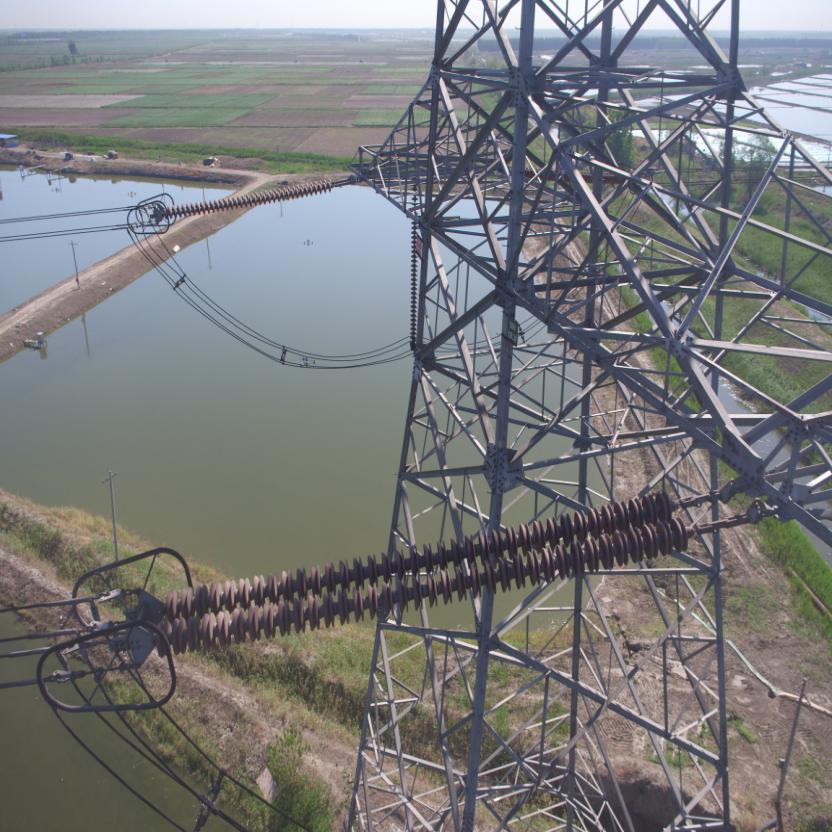insulator: (145, 485, 717, 658), (156, 175, 342, 220)
